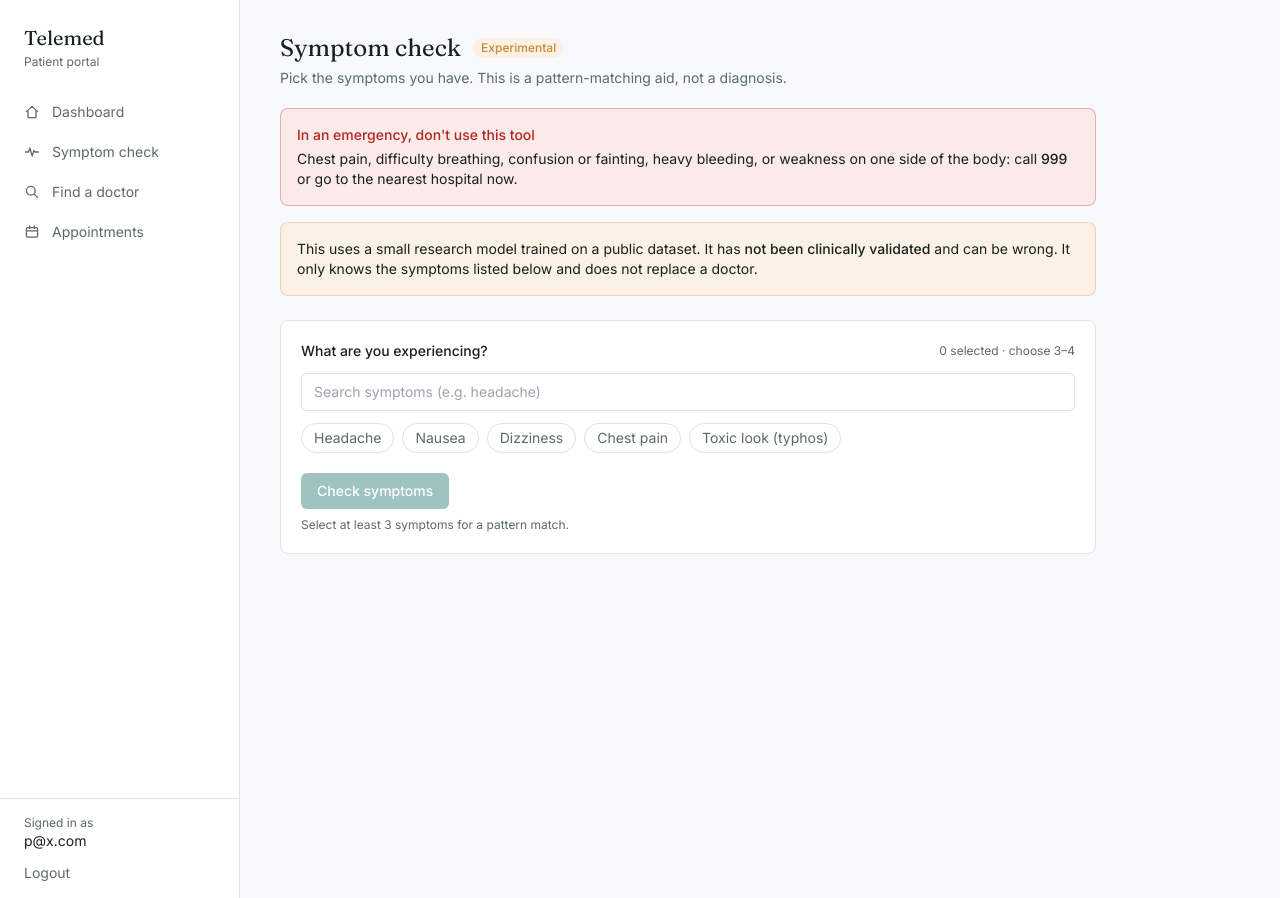
Test case: SymptomAssessment › shows experimental result with honest wording: raw 'model score', no percent/confidence, specialty source
Click the button "Headache": coordinates (348, 438) [301, 423, 394, 453]
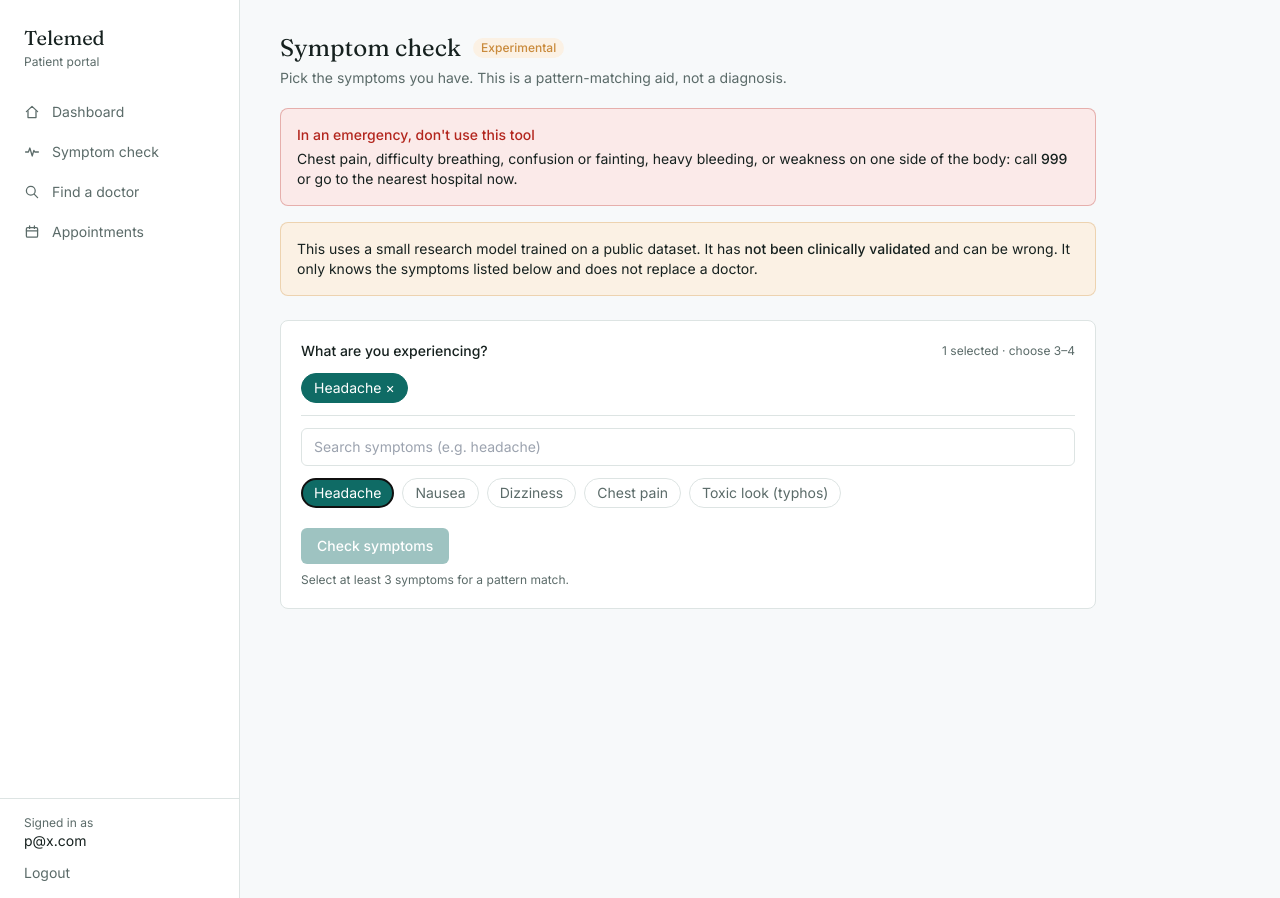
Click the button "Nausea": coordinates (441, 493) [402, 478, 479, 508]
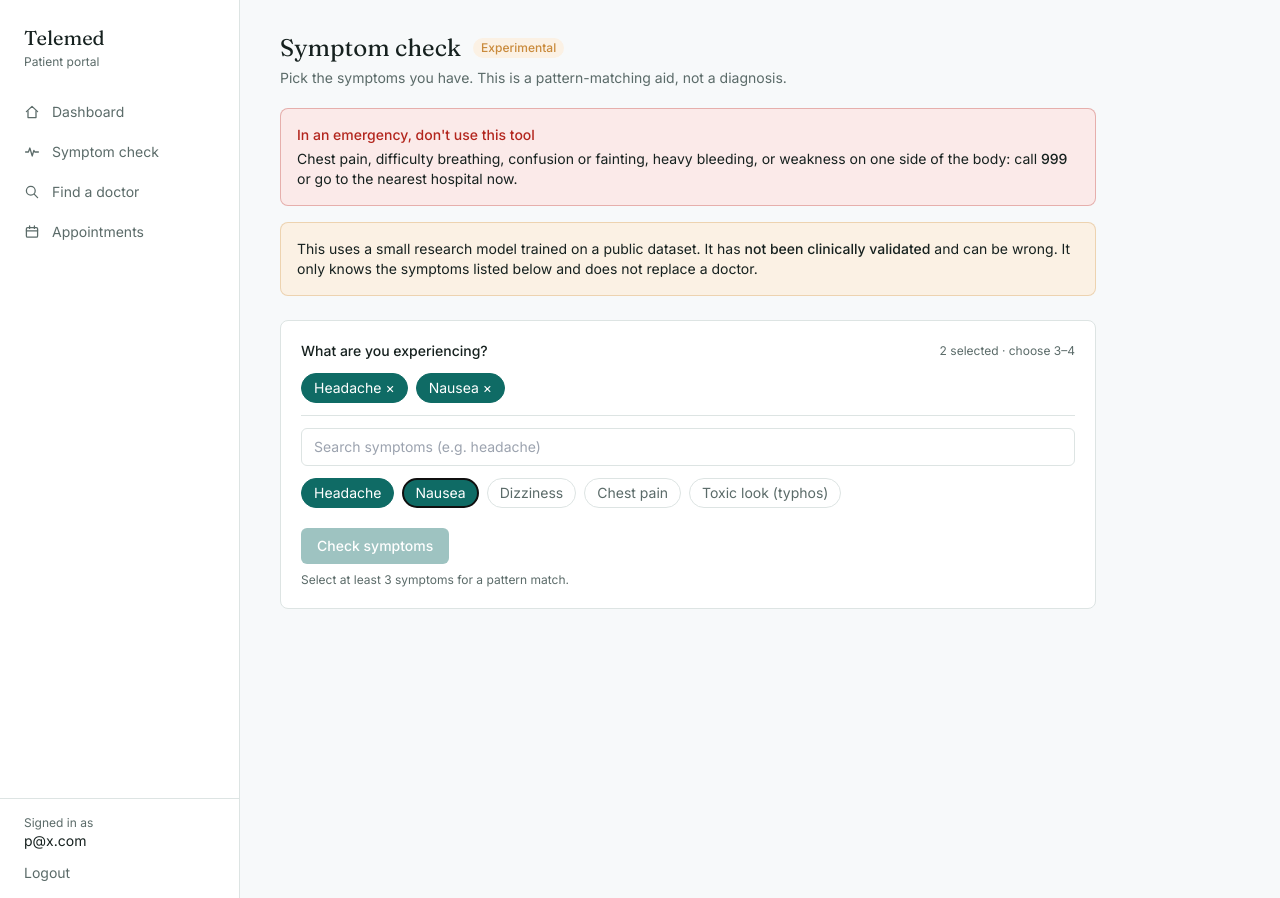
Click the button "Dizziness": coordinates (532, 493) [487, 478, 576, 508]
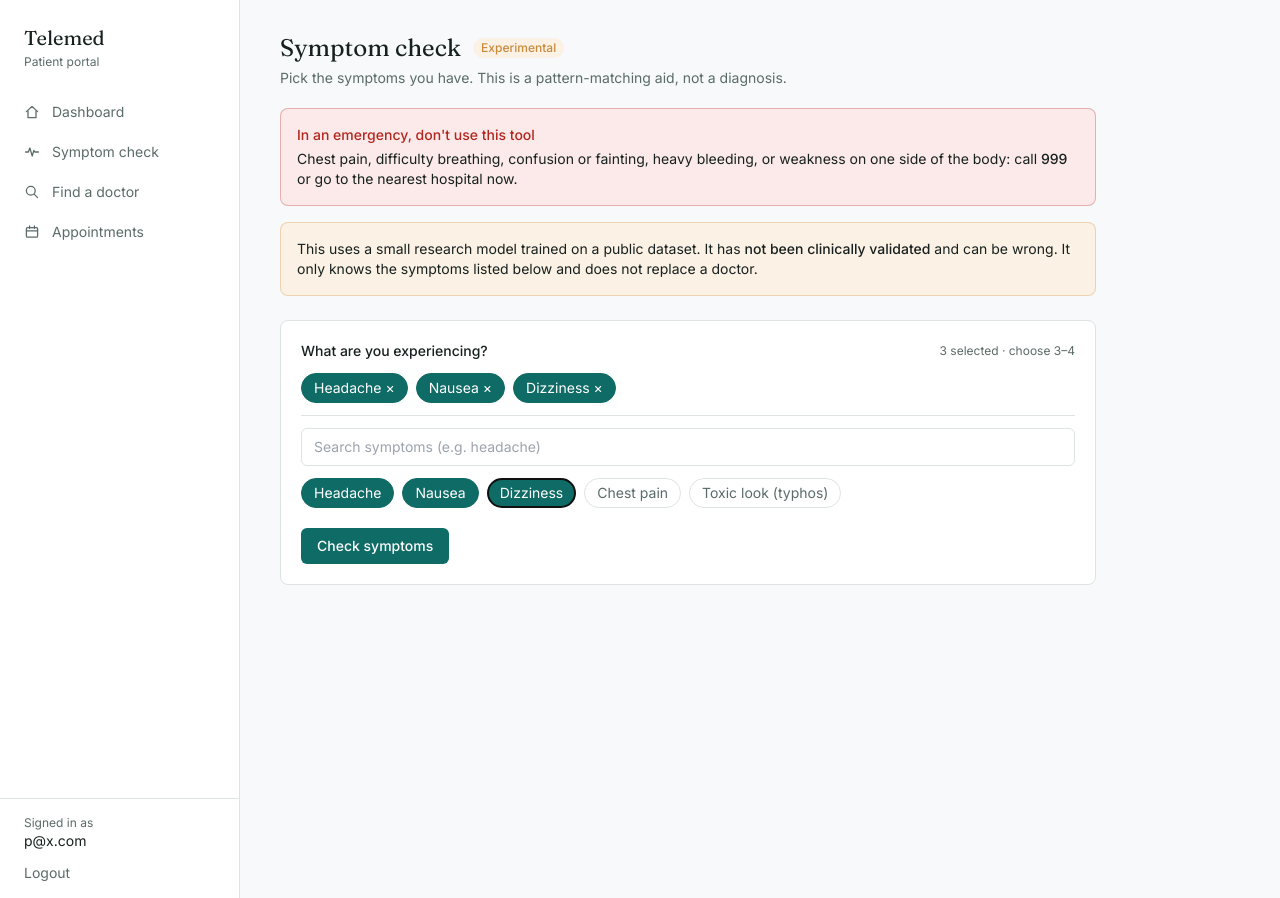
Click the button "Check symptoms": coordinates (375, 546) [301, 528, 449, 564]
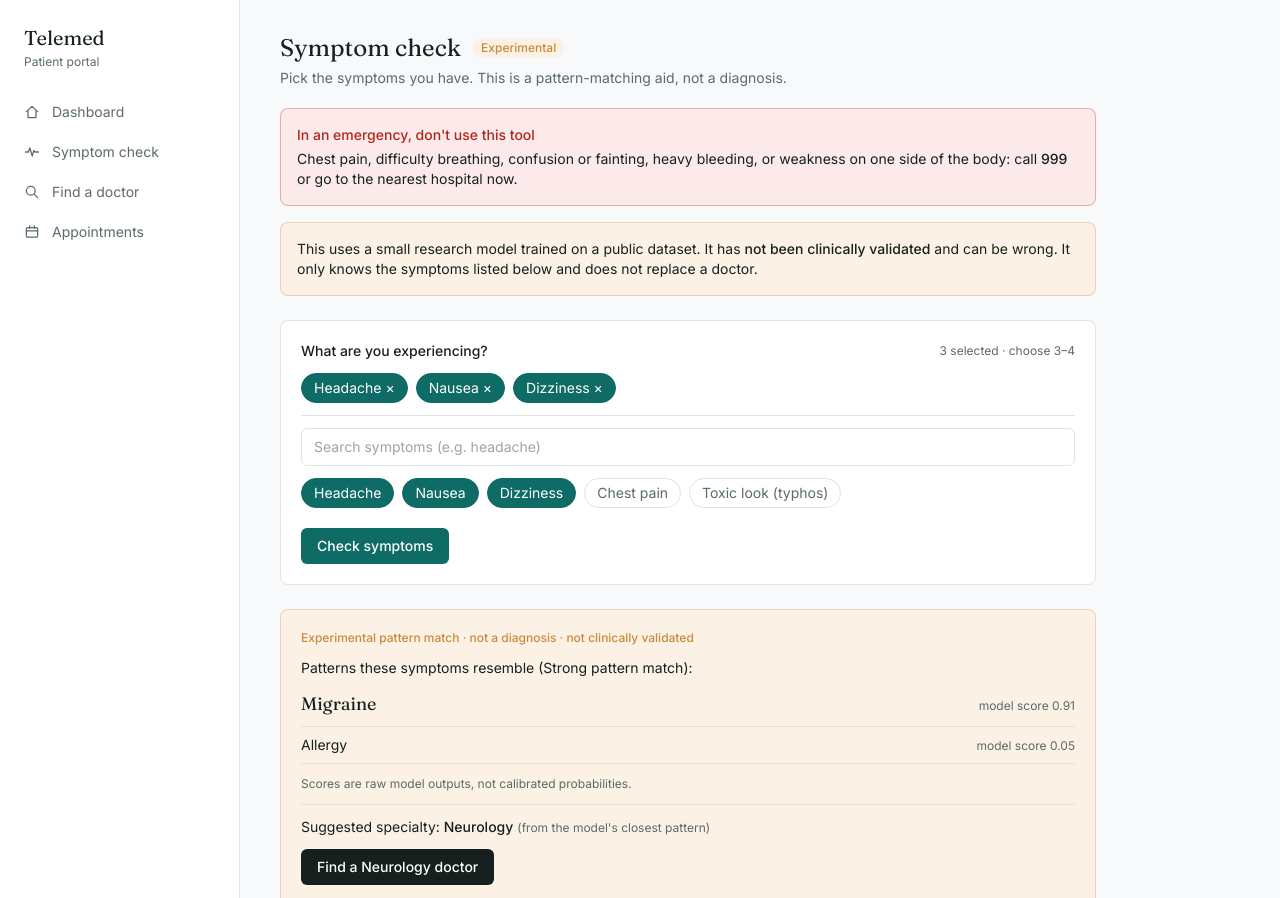
Expected: the text "Migraine" is shown, [301, 690, 376, 718]
Expected: the text "model score 0.91" is shown, [979, 698, 1075, 714]
Expected: the text "not a diagnosis · not clinically validated" is shown, [301, 630, 694, 645]
